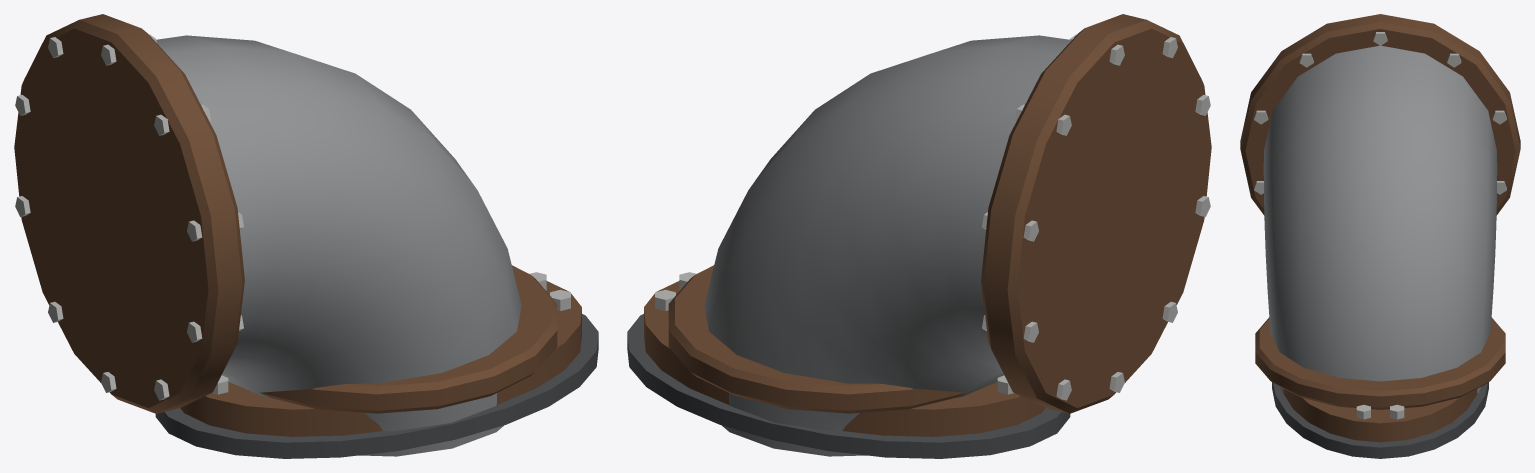
File: pipe-to-ground-west.glb
3 views of the same model, side by side, from view 1: azimuth 30°, elevation 25°; view 2: azimuth 150°, elevation 25°; view 3: azimuth 270°, elevation 25° (orthographic). The views are drawn at different scales.
Visible parts, largest first — view 1: body; view 2: body; view 3: body.
Boxes of the visible parts, x1,y1,x2,y2 form: body: (14,14,598,458); body: (627,14,1211,458); body: (1240,14,1520,458).
Bounding box in the file's own units: 0.92 × 0.775 × 0.67.
